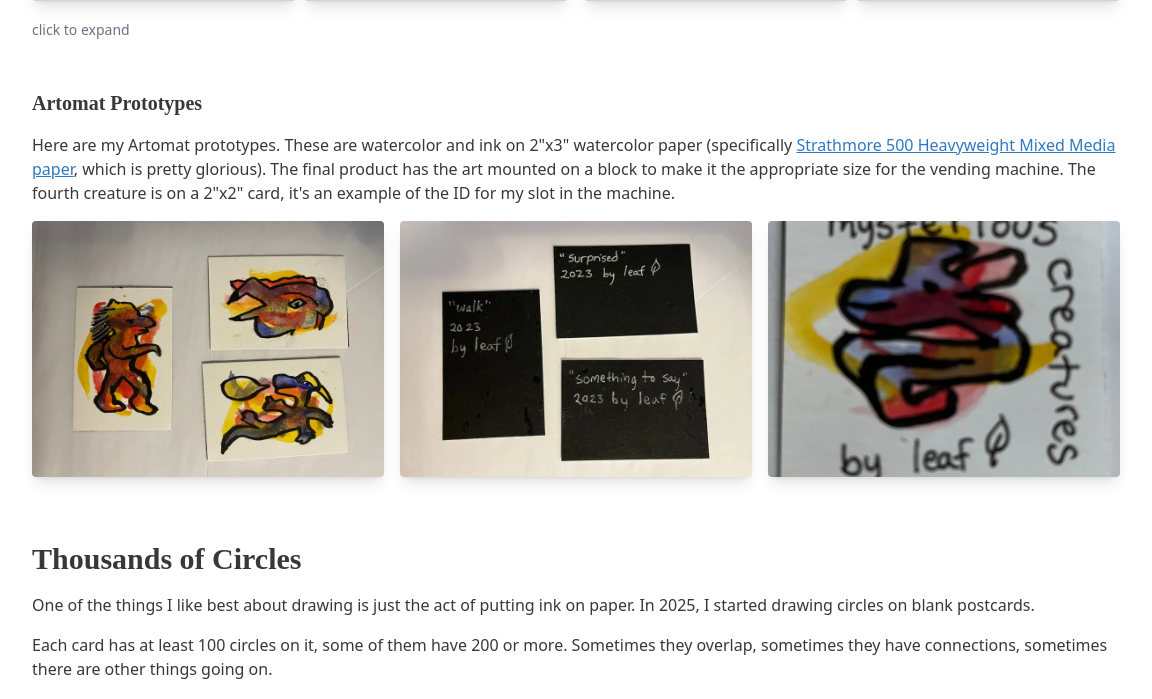
Test: Art Page › Lightbox Functionality › opens lightbox when clicking artomat images
(page scrolled)
Click the picture with alt text "IMG 62" at (208, 349), box [32,221,384,477]
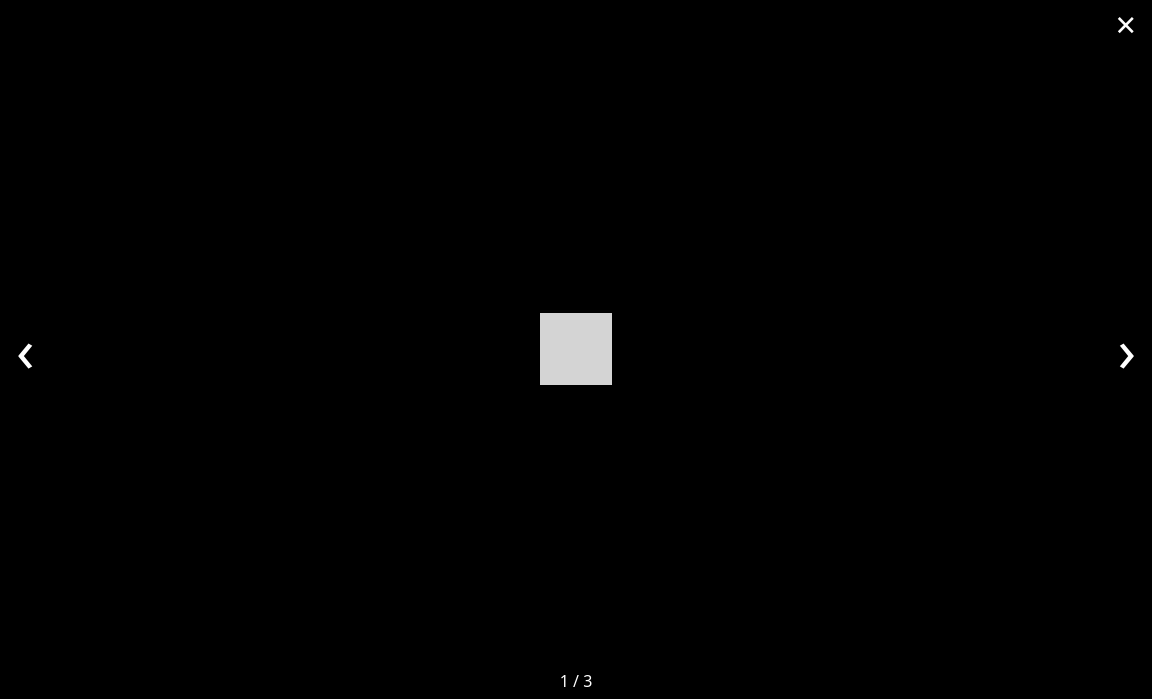
Expected: the button named "Close lightbox" is shown, [1115,5,1136,45]
